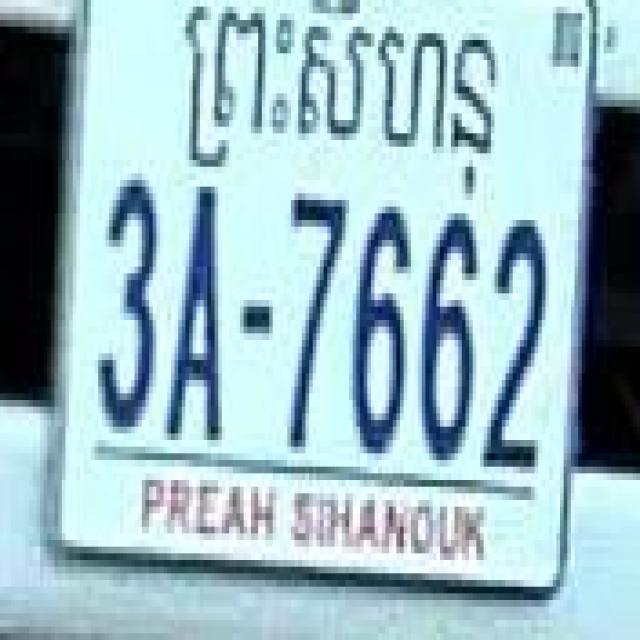Preah_Sihanouk: (178, 0, 506, 195)
